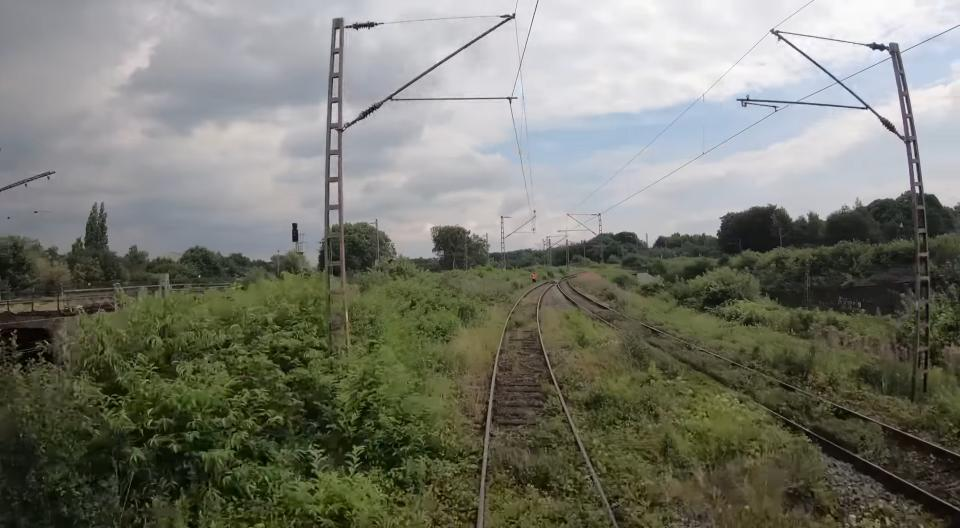Plant: (541, 293, 942, 528), (598, 311, 960, 506), (576, 278, 960, 453), (406, 277, 532, 528), (484, 382, 612, 528), (497, 321, 539, 383), (507, 284, 551, 329)
